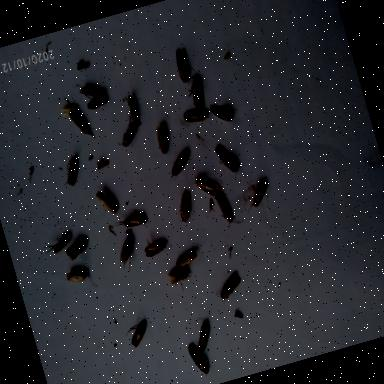pbw: (188, 162, 224, 204), (64, 260, 98, 294), (216, 190, 244, 231), (212, 272, 247, 304), (115, 235, 142, 274), (122, 316, 152, 350), (214, 140, 240, 178), (56, 154, 85, 188), (69, 108, 96, 144), (172, 189, 198, 225), (190, 316, 216, 352), (164, 148, 194, 178), (187, 74, 212, 110), (166, 266, 196, 296), (187, 341, 211, 378), (172, 48, 194, 84), (42, 232, 74, 256), (248, 180, 274, 209), (112, 210, 146, 232), (64, 236, 92, 262), (78, 80, 108, 104), (96, 188, 118, 219), (117, 122, 142, 149), (209, 100, 234, 127), (172, 249, 200, 272), (152, 122, 172, 154), (142, 234, 168, 258), (123, 94, 141, 128), (182, 106, 210, 126), (58, 96, 78, 116), (86, 96, 110, 112)
